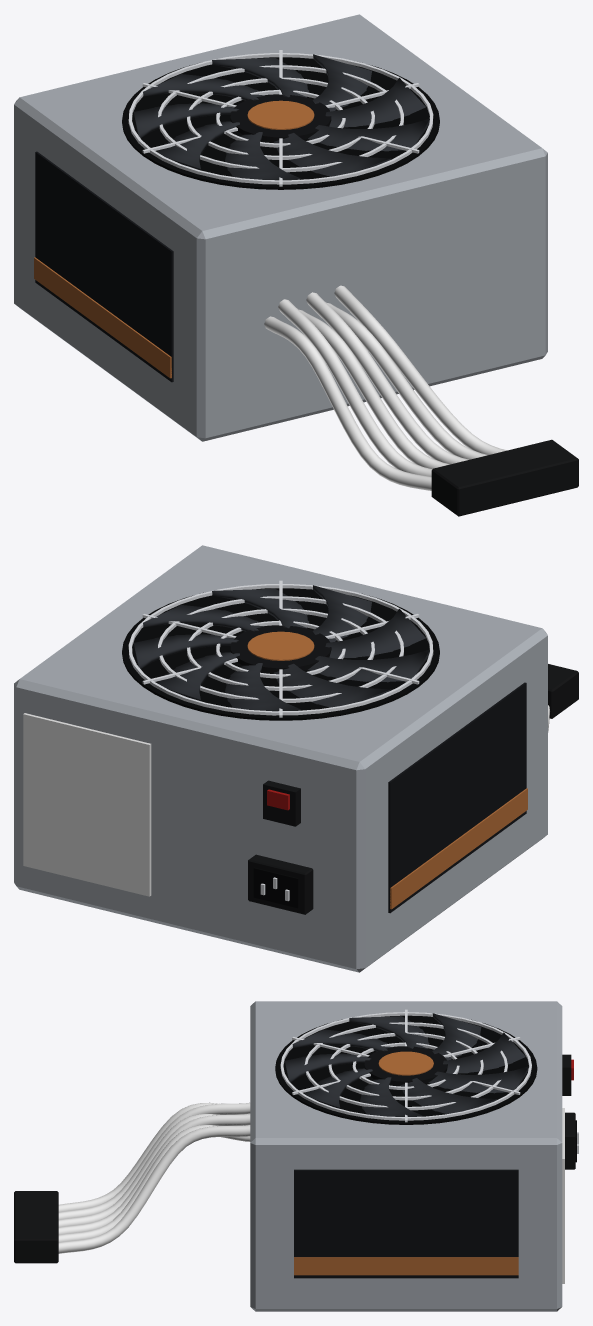
Rendered from hw_psu_550w_bronze.glb.
3 views of the same model, one above another, from view 1: azimuth 30°, elevation 25°; view 2: azimuth 150°, elevation 25°; view 3: azimuth 270°, elevation 25° (orthographic). The views are drawn at different scales.
Parts seen in each view (by area): view 1: Body, Rotor_Y_0; view 2: Body, Rotor_Y_0; view 3: Body, Rotor_Y_0.
Part boxes in pixels (box(x1,y1,x2,y2)): Body: box(14, 14, 578, 516); Rotor_Y_0: box(134, 54, 429, 180); Body: box(14, 545, 578, 972); Rotor_Y_0: box(134, 585, 429, 711); Body: box(14, 1001, 578, 1311); Rotor_Y_0: box(285, 1013, 529, 1116).
Bounding box in the file's own units: 0.1528 × 0.0894 × 0.2535.
